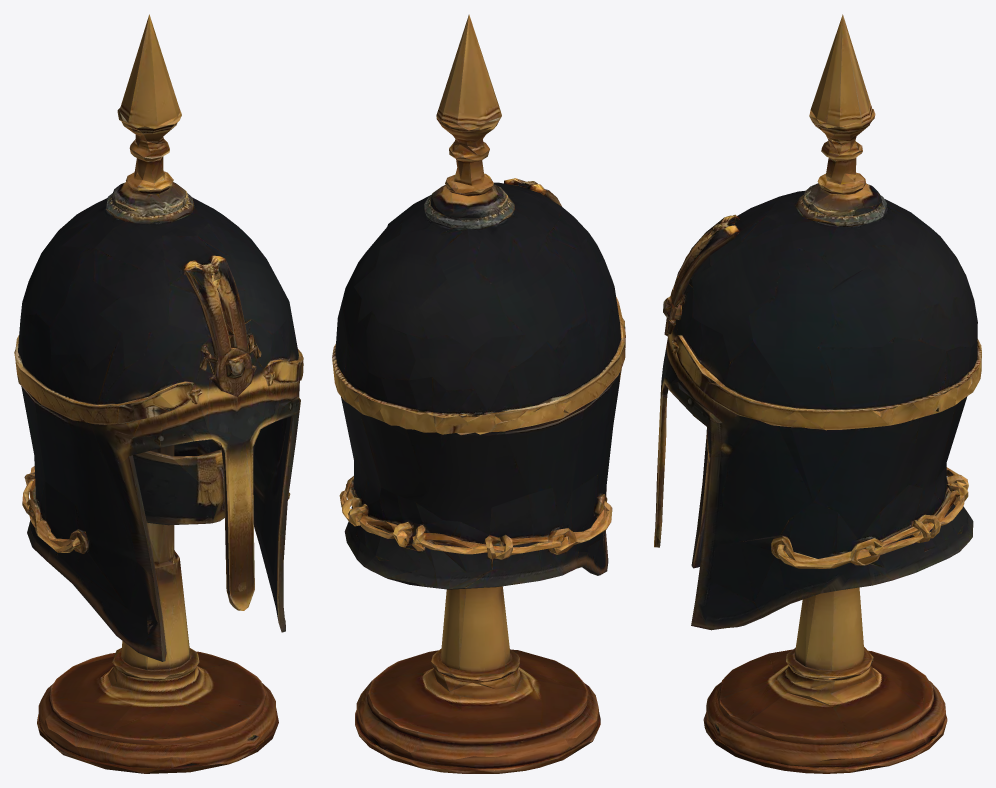
Rendered from token-pickelhaube.glb.
The picture shows the model from 3 angles, left to right: view 1: azimuth 30°, elevation 25°; view 2: azimuth 150°, elevation 25°; view 3: azimuth 270°, elevation 25°; orthographic projection.
Bounding box in the file's own units: 0.6643 × 1.9 × 0.7962.
1 material, 1 textured.
